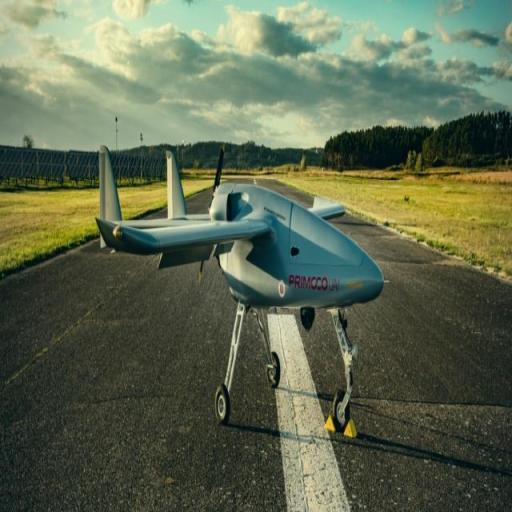uav: (90, 136, 370, 436)
